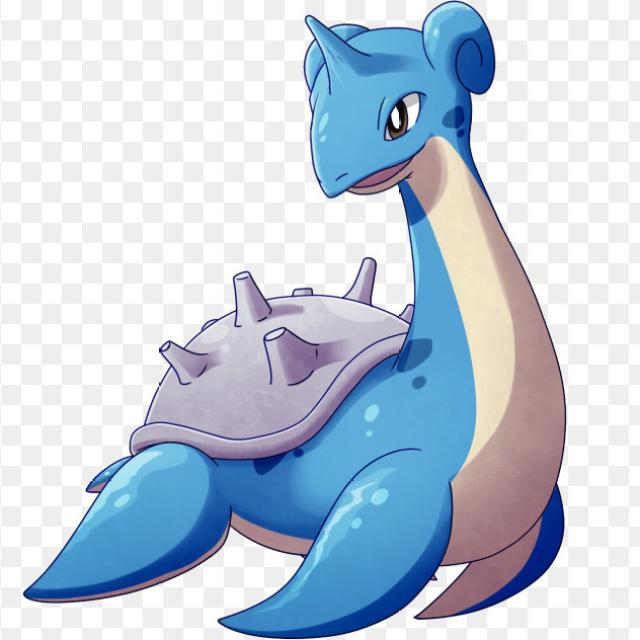Lapras: (122, 11, 571, 628)
